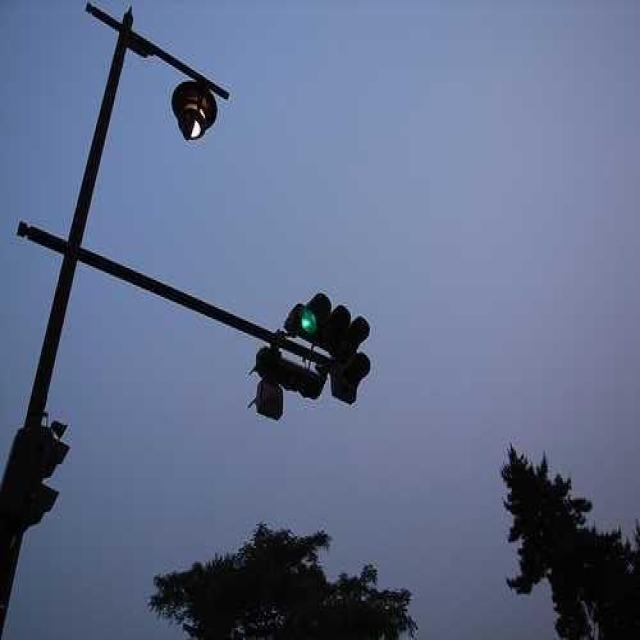Traffic Light -Green-: (286, 288, 380, 360)
